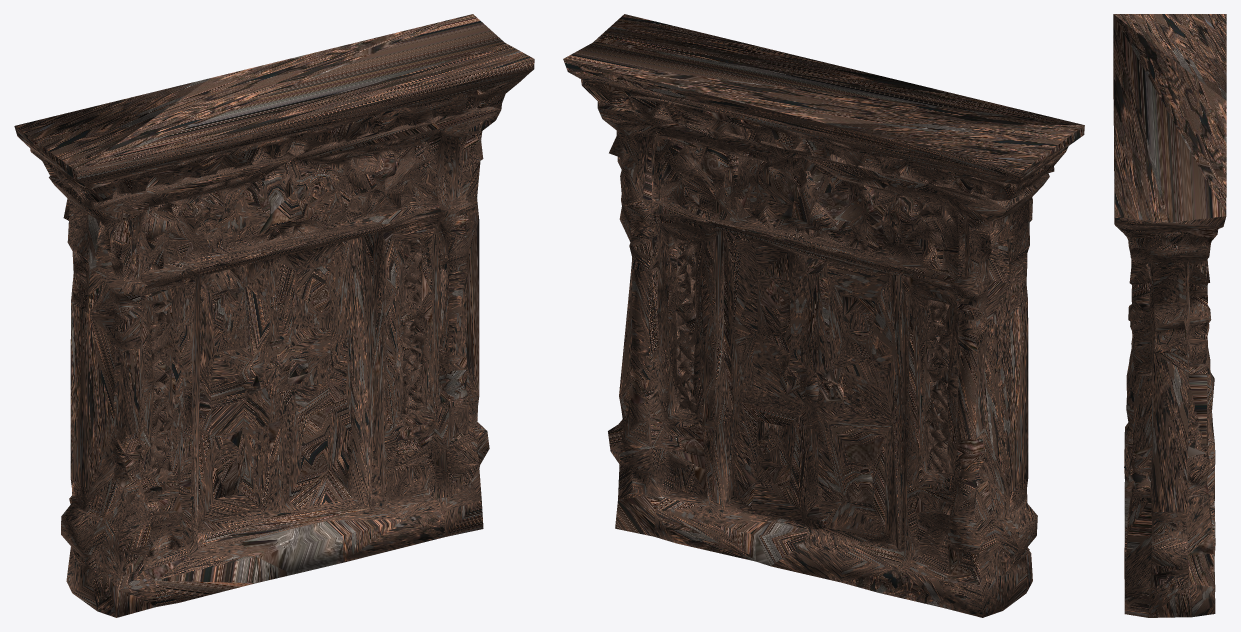
File: doorway.glb
3 views of the same model, side by side, from view 1: azimuth 30°, elevation 25°; view 2: azimuth 150°, elevation 25°; view 3: azimuth 270°, elevation 25° (orthographic). The views are drawn at different scales.
Parts seen in each view (by area): view 1: doorway; view 2: doorway; view 3: doorway.
Part boxes in pixels (bbox=[...]): doorway: bbox=[14, 14, 534, 617]; doorway: bbox=[563, 14, 1084, 617]; doorway: bbox=[1113, 14, 1226, 617].
Size of the model in its own units: 1.81 by 1.75 by 0.4285.
1 material, 1 textured.
